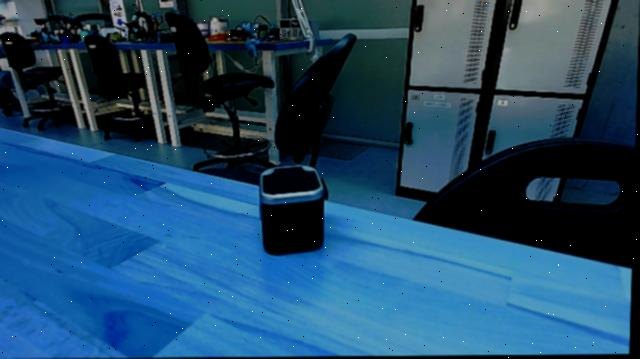adapter: (252, 165, 332, 261)
